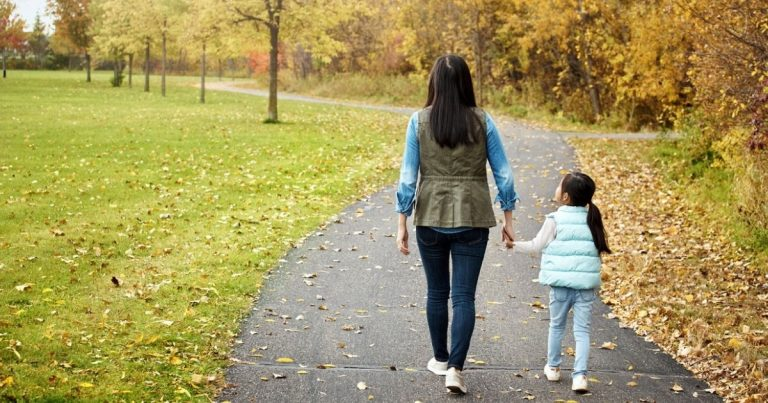person: (395, 53, 516, 395), (529, 171, 604, 394)
